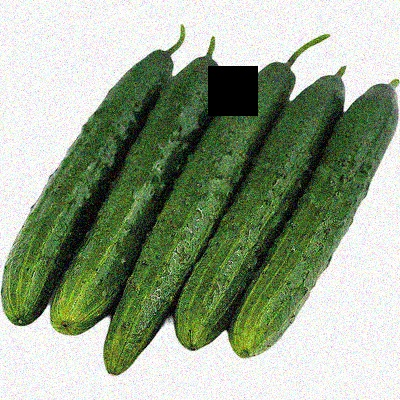cucumber: (107, 51, 294, 371), (189, 64, 347, 352), (61, 48, 218, 331), (9, 43, 165, 323), (243, 93, 390, 358)
